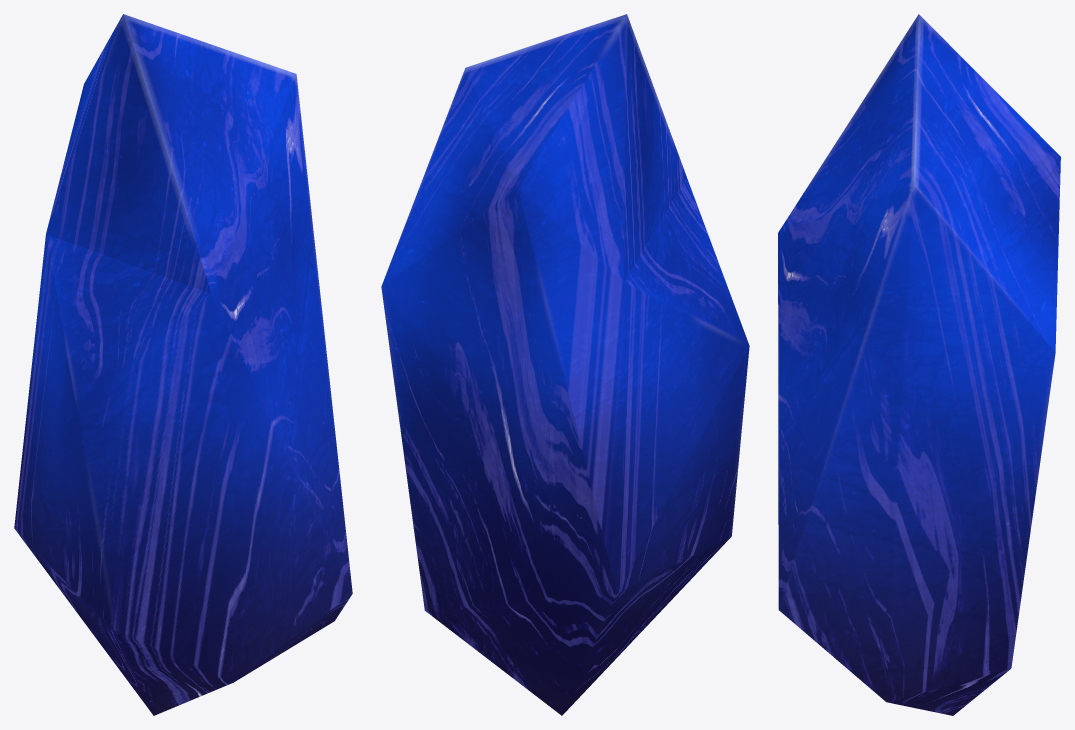
File: rough_diamond.glb
The picture shows the model from 3 angles, left to right: view 1: azimuth 30°, elevation 25°; view 2: azimuth 150°, elevation 25°; view 3: azimuth 270°, elevation 25°; orthographic projection. The views are drawn at different scales.
Visible parts, largest first — view 1: Cube; view 2: Cube; view 3: Cube.
Part boxes in pixels (x1,y1,x2,y2): Cube: (14, 14, 352, 715); Cube: (381, 14, 749, 715); Cube: (778, 14, 1060, 715).
Bounding box in the file's own units: 0.3628 × 0.9019 × 0.3402.
Materials: 1 (1 with a texture image).
